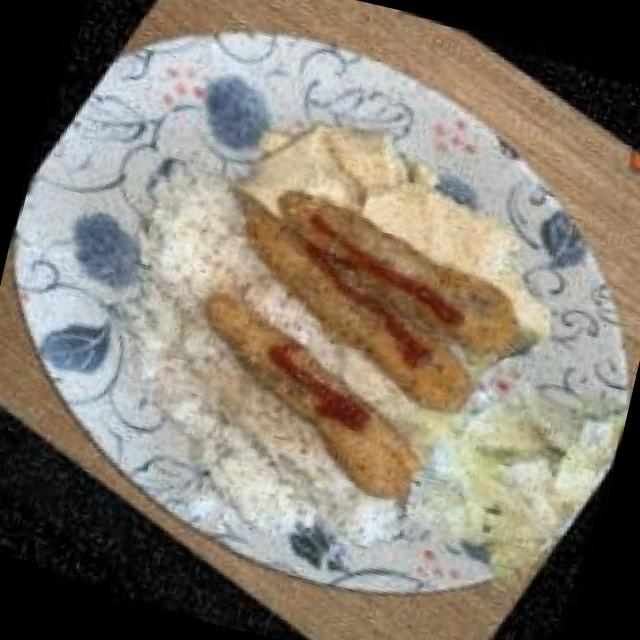chinese_cabbage: (372, 300, 640, 609)
rice: (59, 284, 388, 563)
